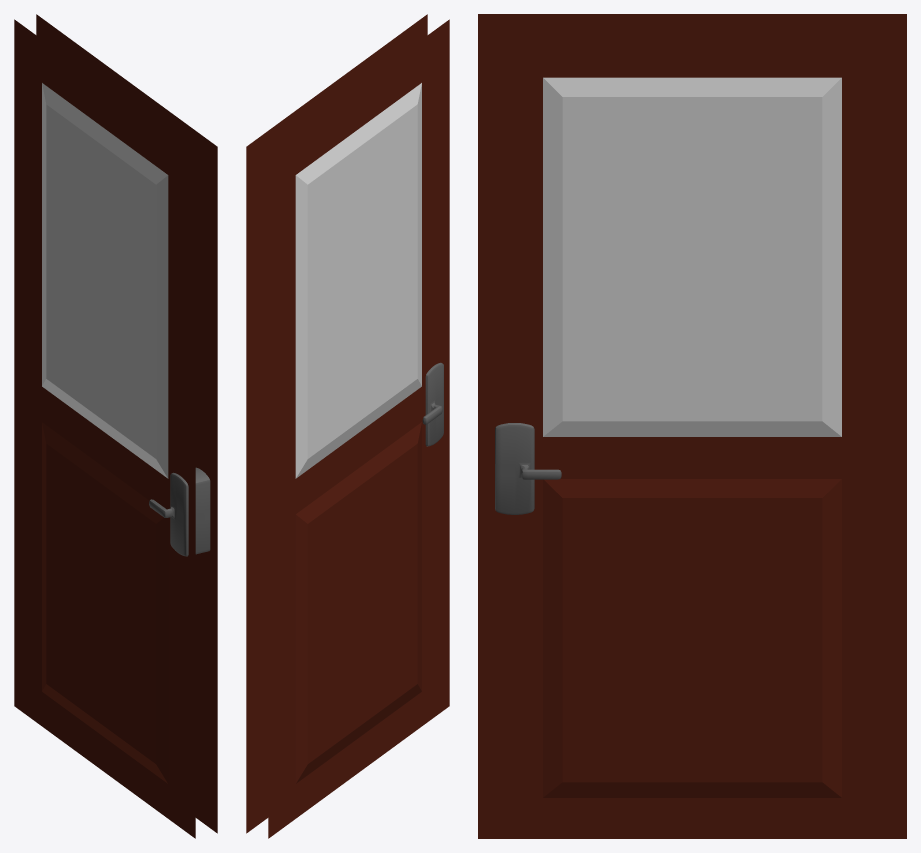
Rendered from bahceKapisi.fbx.
3 views of the same model, side by side, from view 1: azimuth 30°, elevation 25°; view 2: azimuth 150°, elevation 25°; view 3: azimuth 270°, elevation 25° (orthographic). The views are drawn at different scales.
Parts seen in each view (by area): view 1: bahceKapi; view 2: bahceKapi; view 3: bahceKapi.
Boxes of the visible parts, x1=… form: bahceKapi: x1=14, y1=14, x2=217, y2=838; bahceKapi: x1=246, y1=14, x2=449, y2=838; bahceKapi: x1=478, y1=14, x2=906, y2=838.
Bounding box in the file's own units: 21.96 × 310 × 148.
